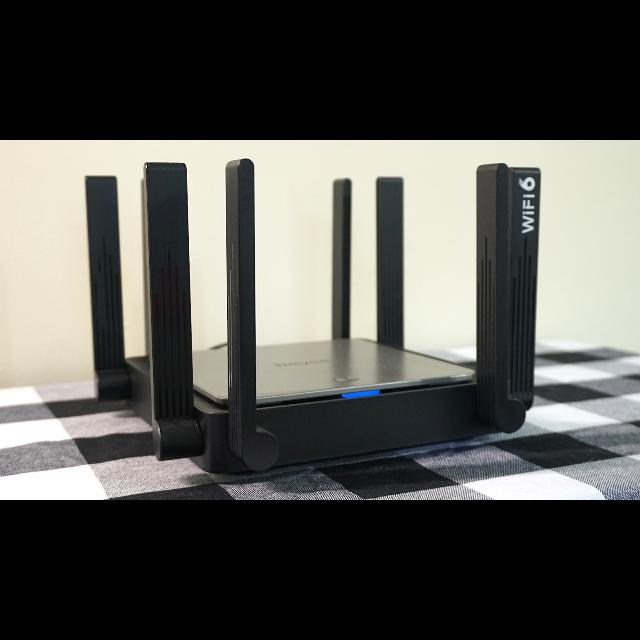Router: (84, 162, 543, 475)
